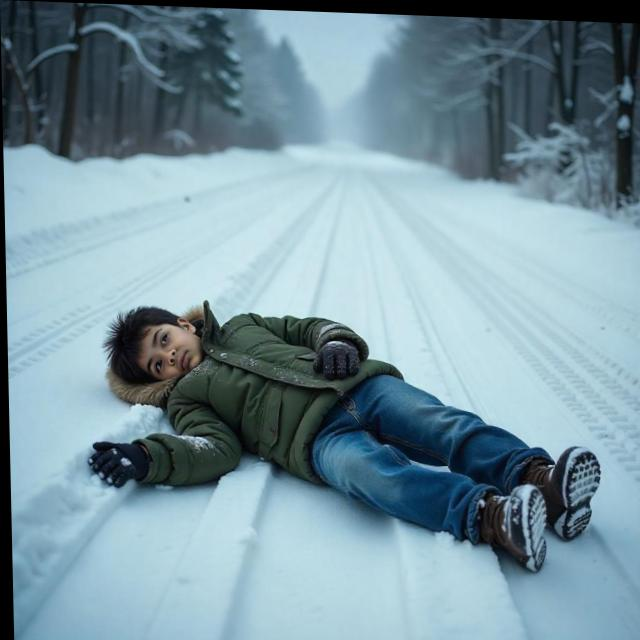injury: (102, 308, 209, 386)
no injury: (82, 296, 602, 536)
